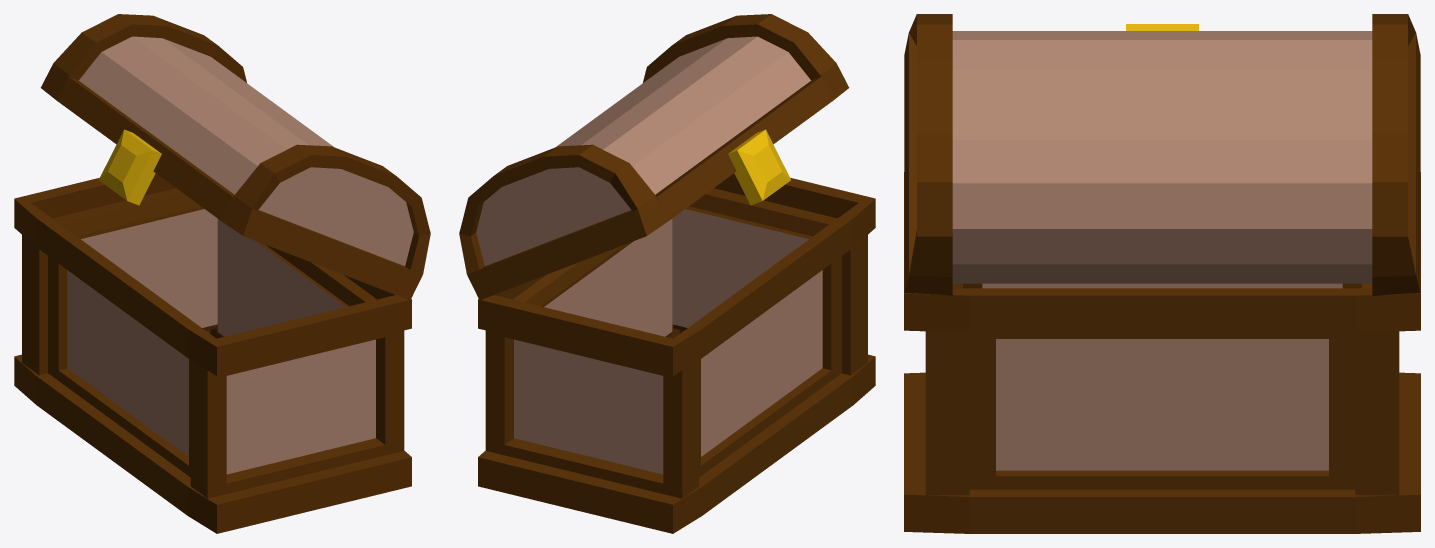
Rendered from chest-open-colored.fbx.
3 renders of one model, left to right at view 1: azimuth 30°, elevation 25°; view 2: azimuth 150°, elevation 25°; view 3: azimuth 270°, elevation 25°, orthographic. The views are drawn at different scales.
Parts seen in each view (by area): view 1: Cube, Cube.001; view 2: Cube, Cube.001; view 3: Cube.001, Cube.
Part boxes in pixels (x1=…): Cube: x1=14, y1=173, x2=411, y2=533; Cube.001: x1=40, y1=14, x2=430, y2=299; Cube: x1=478, y1=173, x2=875, y2=533; Cube.001: x1=459, y1=14, x2=849, y2=299; Cube.001: x1=904, y1=14, x2=1420, y2=295; Cube: x1=904, y1=172, x2=1420, y2=533.
Bounding box in the file's own units: 2.49 × 3.76 × 3.93.
